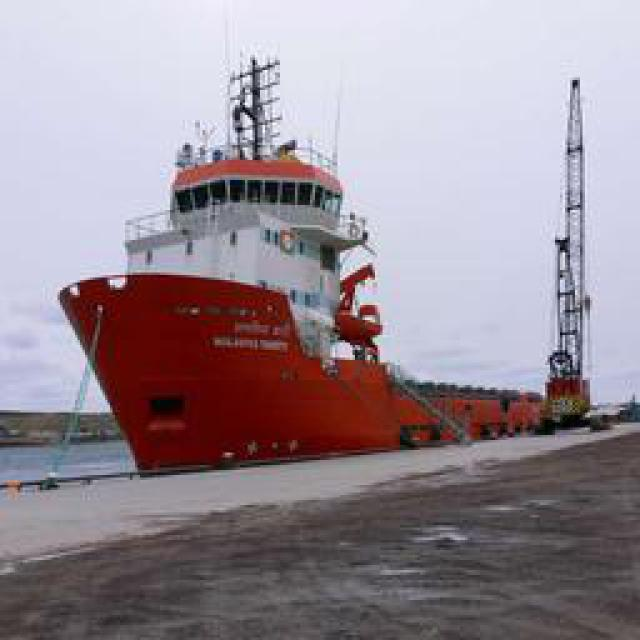Ship: (59, 44, 549, 481)
